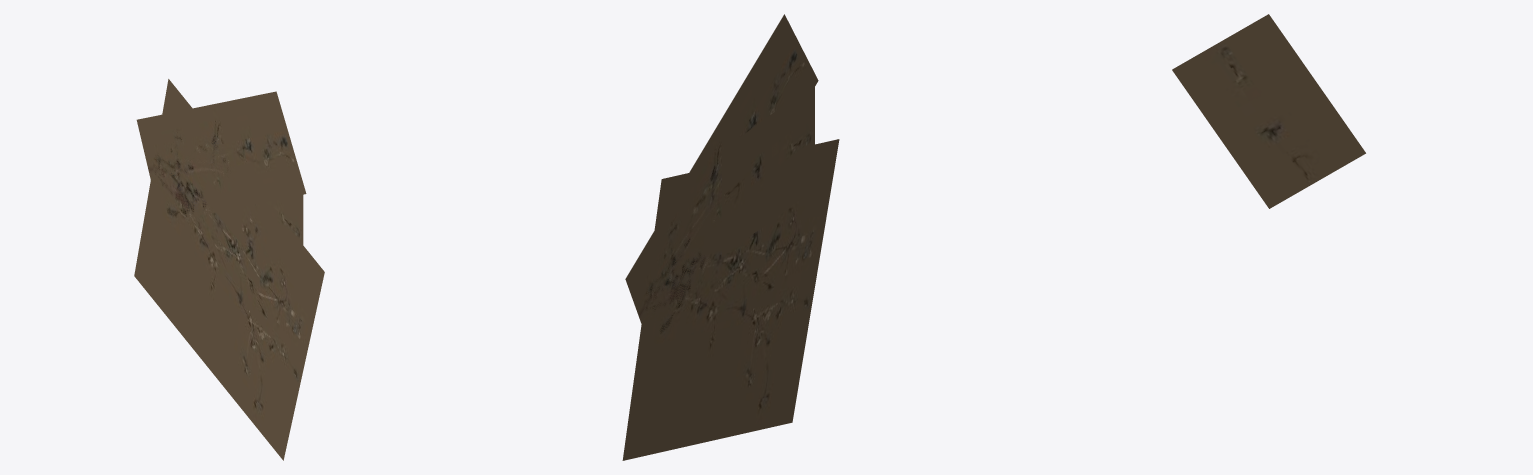
Rendered from brush_desertshrubgraytall_tankdrive1.glb.
3 renders of one model, left to right at view 1: azimuth 30°, elevation 25°; view 2: azimuth 150°, elevation 25°; view 3: azimuth 270°, elevation 25°, orthographic. The views are drawn at different scales.
Size of the model in its own units: 43.76 by 44.42 by 45.66.
Materials: 1 (1 with a texture image).
